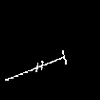treble_crochet: (5, 51, 66, 79)
